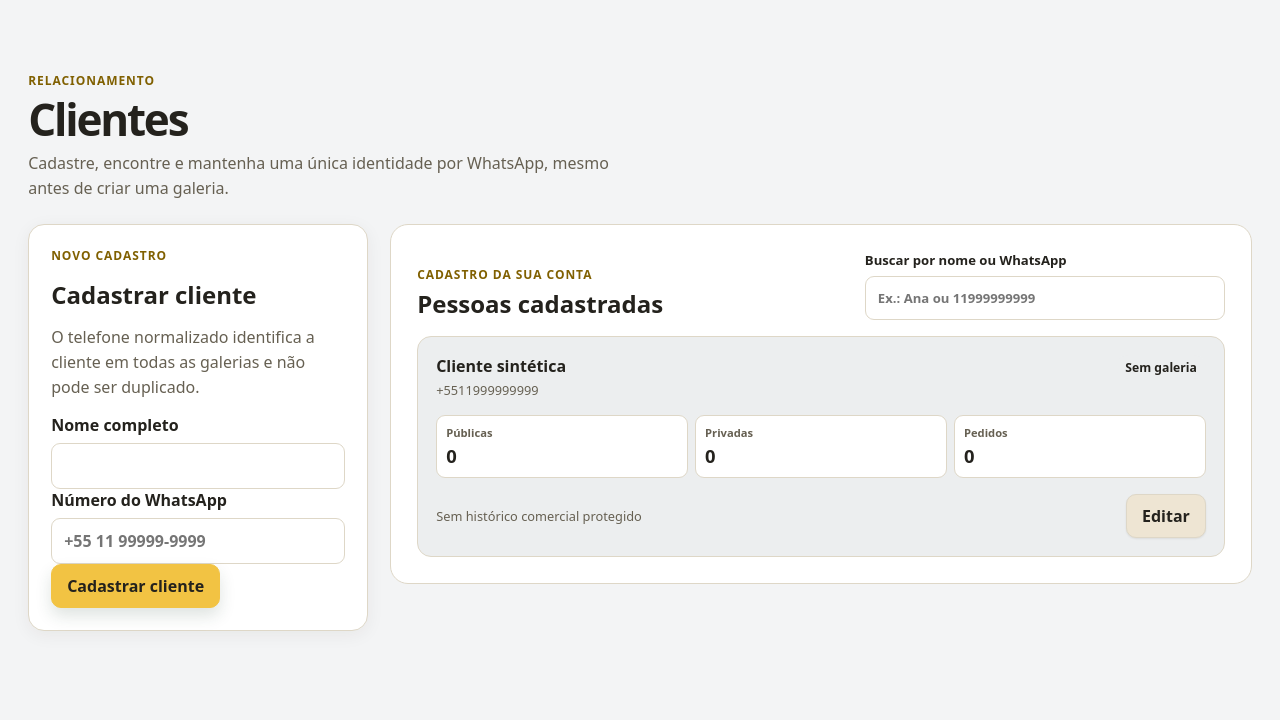
diretório global de clientes › não mostra HTML do proxy e informa status quando a resposta não é JSON
This screenshot has width=1280, height=720.
Click the button "Editar".
click(1166, 516)  # box [1126,494,1206,538]
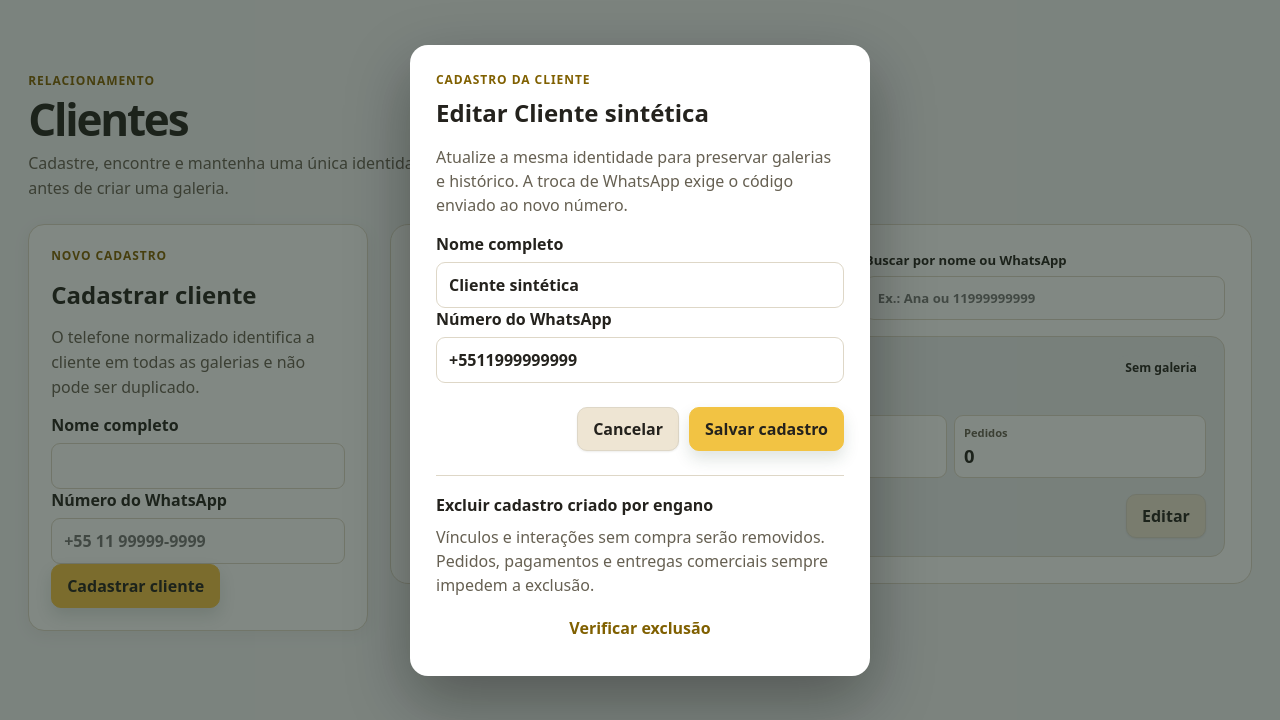
Click the button "Verificar exclusão".
click(640, 628)  # box [436,606,844,650]
(page scrolled)
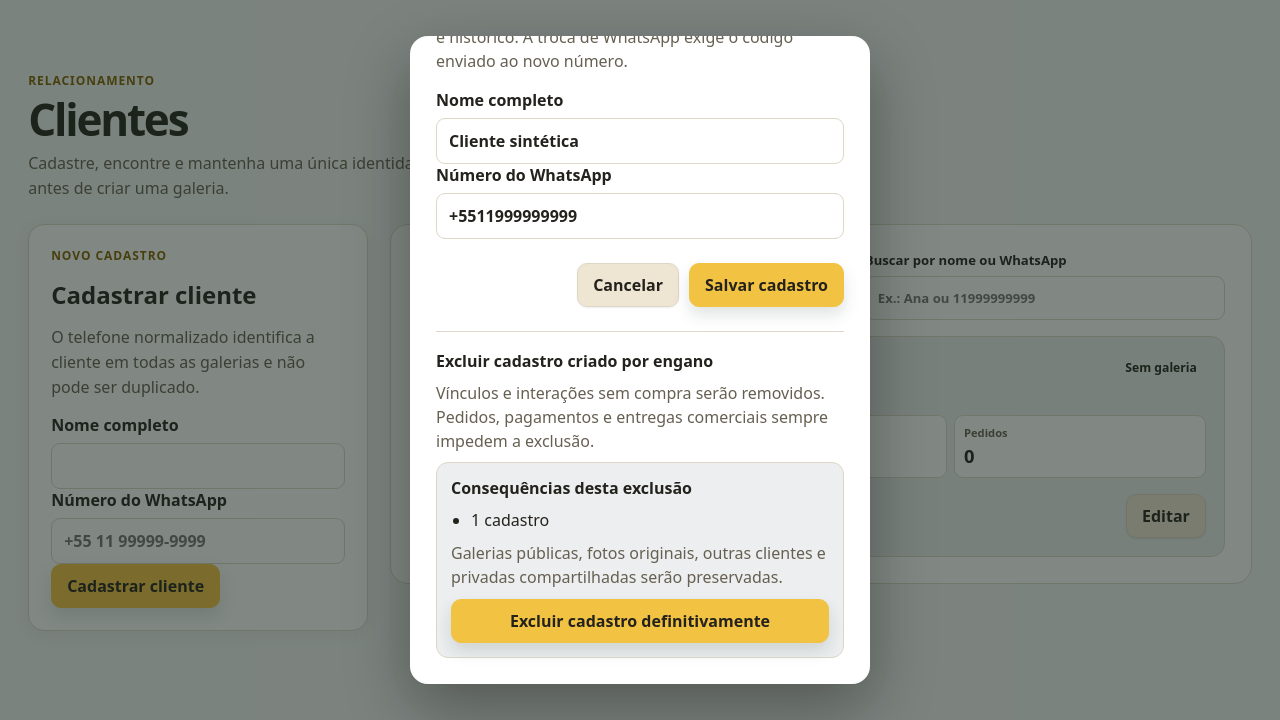
Click the button "Excluir cadastro definitivamente".
click(640, 621)  # box [451,599,829,643]
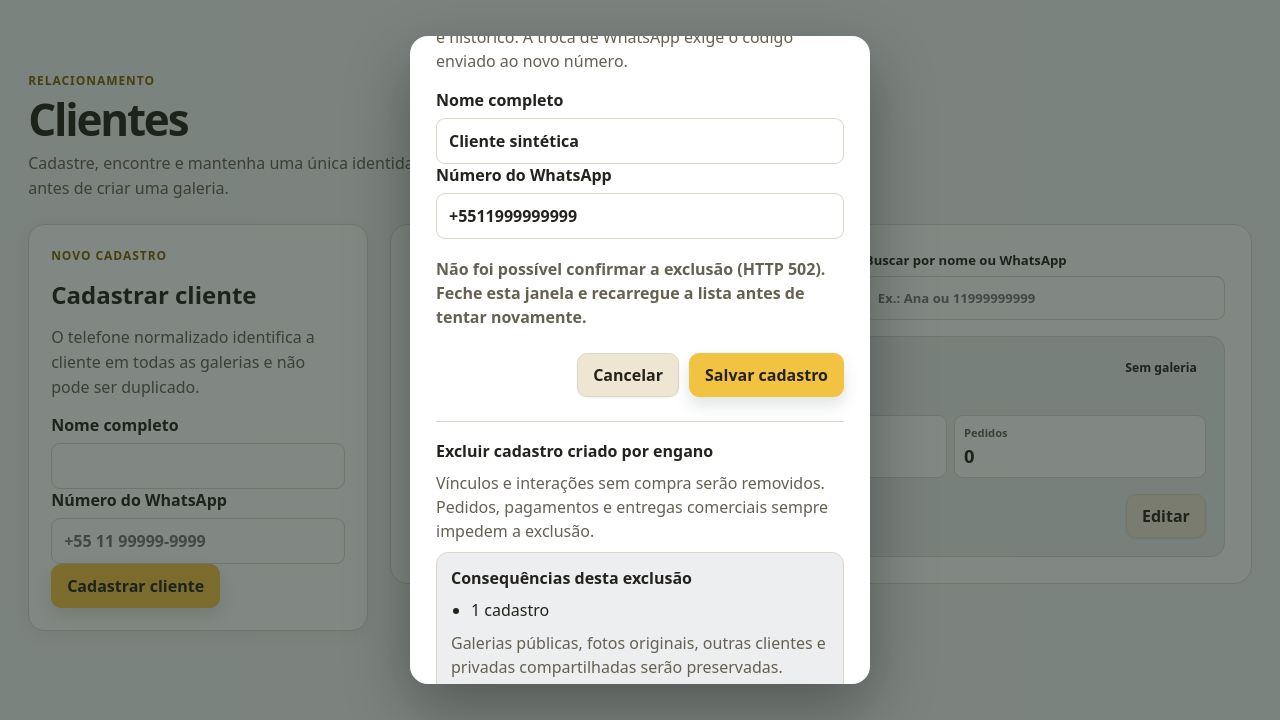
Expected: the message shows "HTTP 502", [436,258,825,328]
Expected: the message shows "recarregue a lista antes de tentar novamente", [436,258,825,328]
